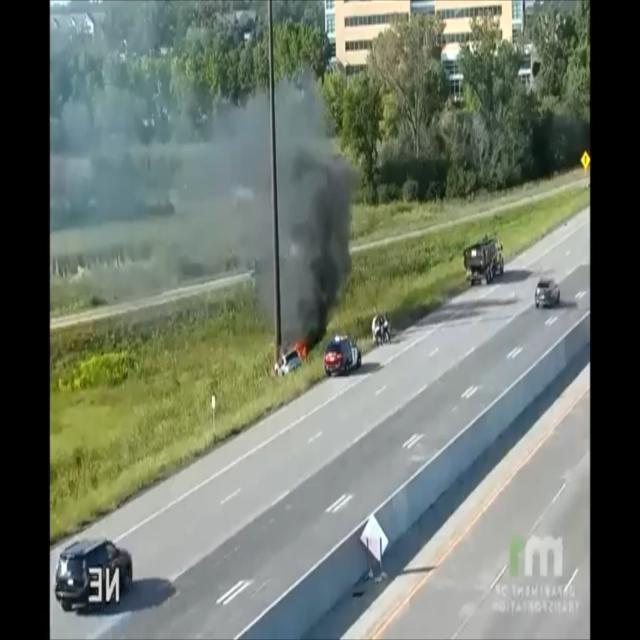fire: (292, 330, 308, 366)
